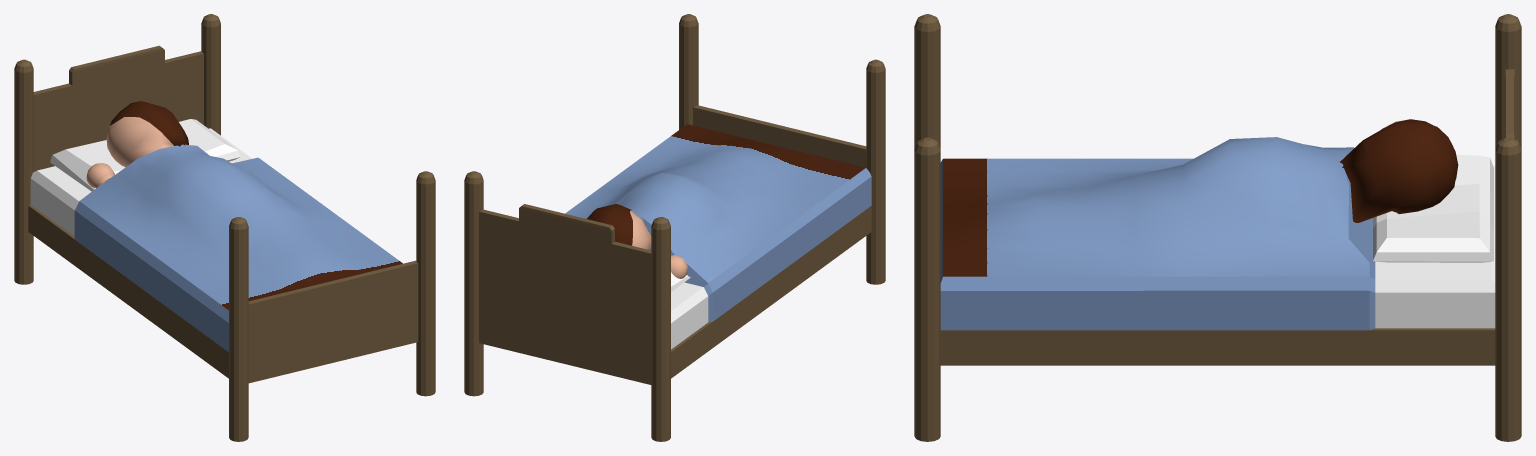
The model's file is bed-person.obj.
3 renders of one model, left to right at view 1: azimuth 30°, elevation 25°; view 2: azimuth 150°, elevation 25°; view 3: azimuth 270°, elevation 25°, orthographic. The views are drawn at different scales.
Visible parts, largest first — view 1: Cube, Cube.001, Cube.002; view 2: Cube, Cube.001; view 3: Cube, Cube.001, Cube.002.
Part boxes in pixels (left/top/right/bottom): Cube: left=14, top=14, right=435, bottom=441; Cube.001: left=86, top=101, right=188, bottom=187; Cube.002: left=50, top=119, right=240, bottom=191; Cube: left=464, top=14, right=885, bottom=441; Cube.001: left=587, top=204, right=687, bottom=278; Cube: left=914, top=14, right=1521, bottom=441; Cube.001: left=1340, top=119, right=1458, bottom=222; Cube.002: left=1373, top=154, right=1493, bottom=262.
Size of the model in its own units: 0.812 by 0.8356 by 1.55.
Materials: 1 (1 with a texture image).
